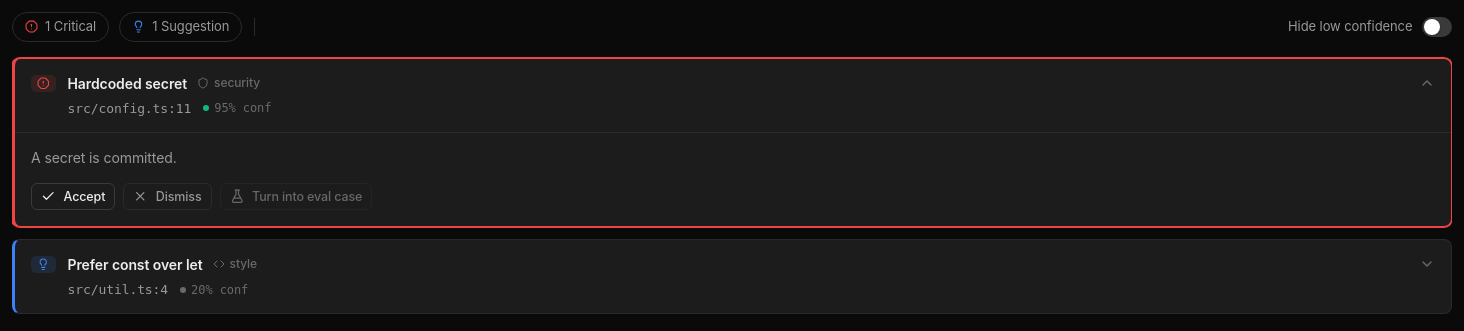
Test: FindingsPanel (smoke) › counts describe the visible list, so hiding low confidence moves them
Expected: the button "1 Suggestion" is shown, [119,12,242,42]
# The low-confidence SUGGESTION is filtered out, so its chip goes with it.
Step 1. Click the switch → [1437, 27], box [1422,17,1452,37]
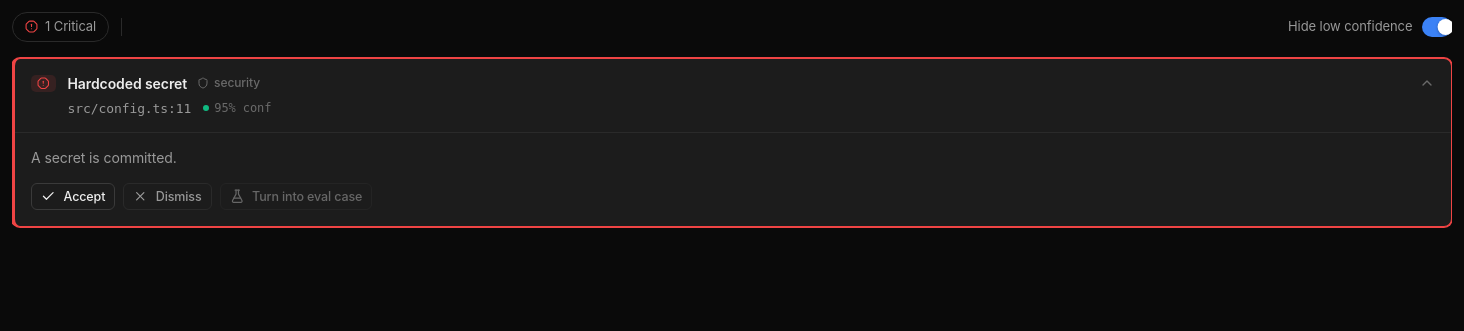
Expected: the button "1 Critical" is shown, [12,12,109,42]
Now the button "Suggestion" is gone
